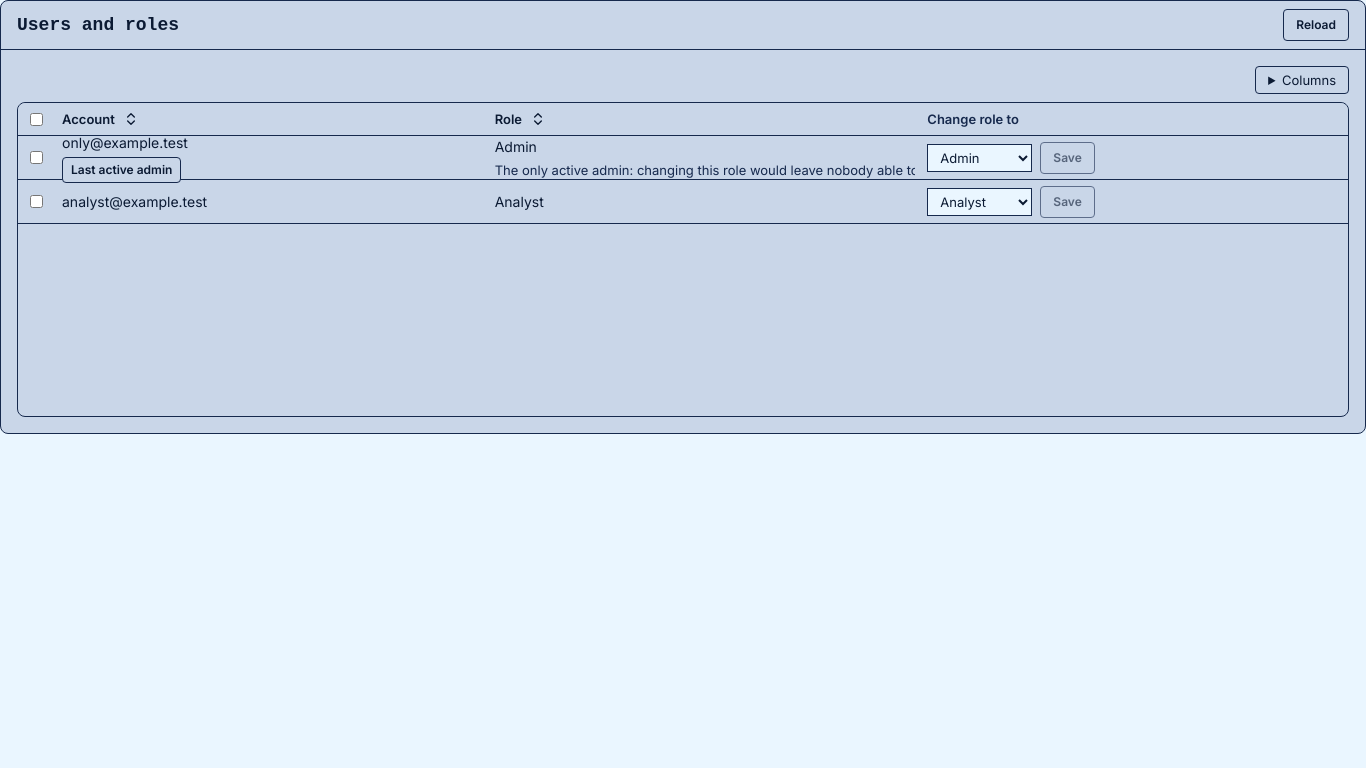
Test case: UsersPanel › offers the demotion and renders the refusal when the server refuses it
This screenshot has width=1366, height=768.
Select "Viewer" in the dropdown named "New role for only@example.test" in the row of "only@example.test" at point(980, 158), box x1=927 y1=144 x2=1032 y2=172
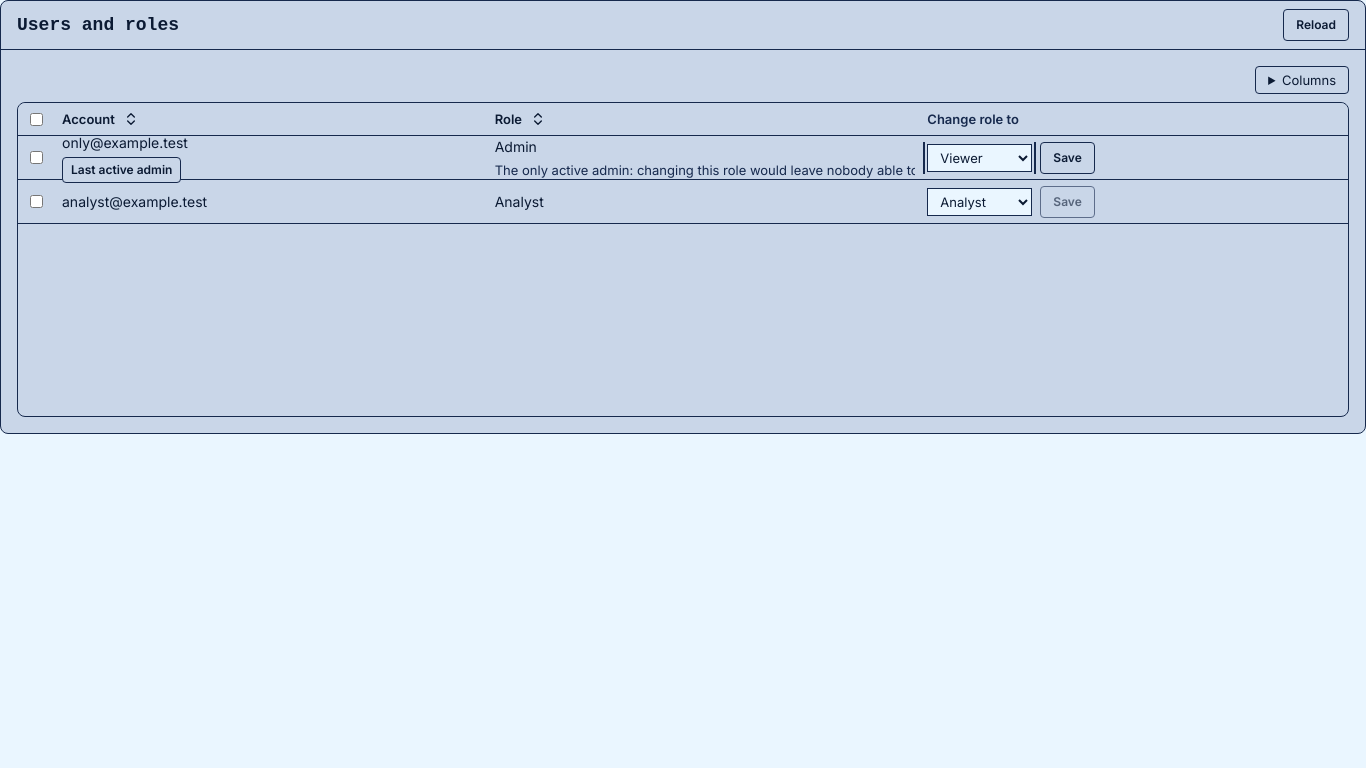
Result: the button with aria-label "Save the new role for only@example.test" is enabled
Click the button with aria-label "Save the new role for only@example.test" at point(1068, 158), box x1=1040 y1=142 x2=1095 y2=174
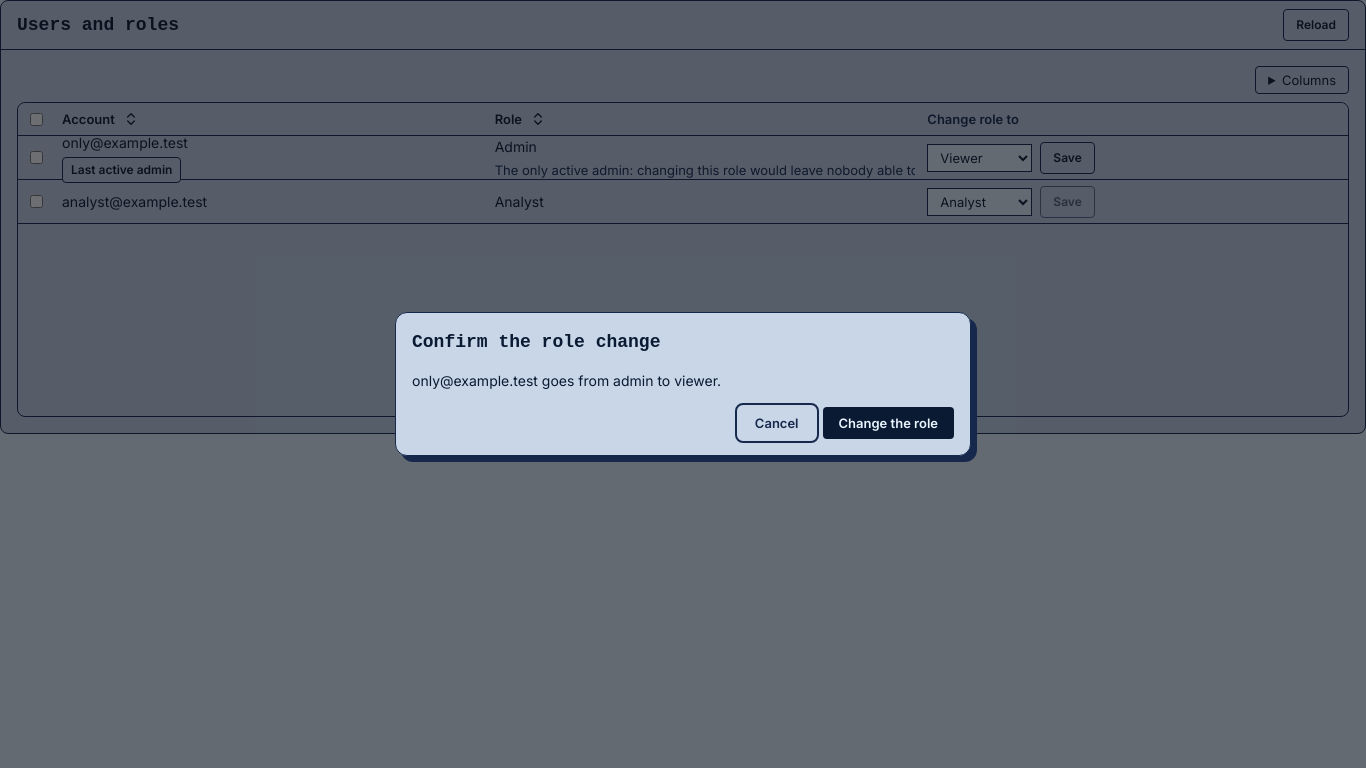
Result: the text "only@example.test goes from admin to viewer." is shown at x1=412 y1=372 x2=721 y2=389
Click the button "Change the role" at point(888, 423), box x1=822 y1=407 x2=954 y2=439
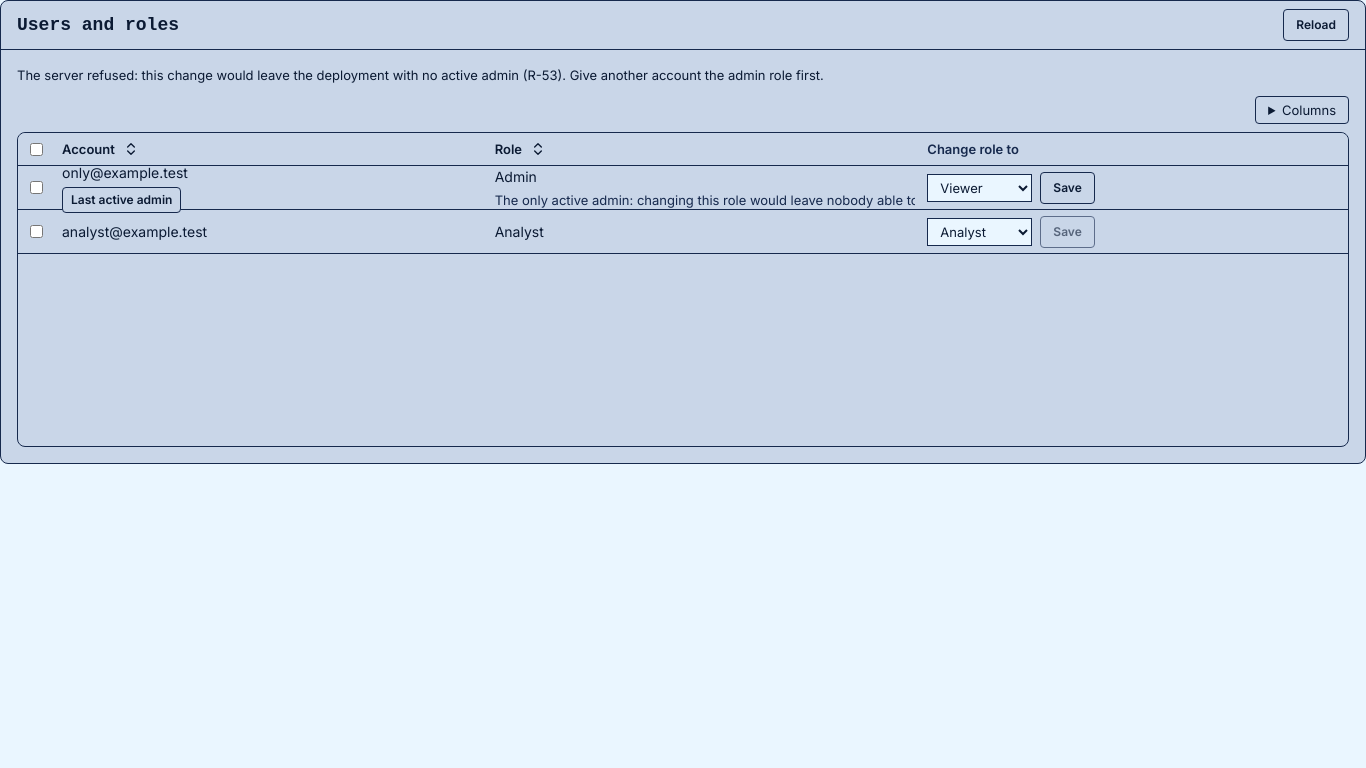
Result: the text "this change would leave the deployment with no active admin" is shown at x1=17 y1=67 x2=824 y2=83
